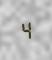four: (19, 20, 31, 39)
